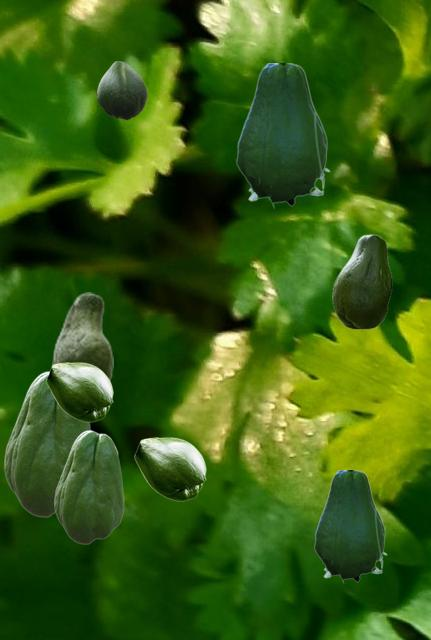sayote: (236, 63, 329, 208), (4, 371, 91, 516), (314, 470, 386, 583), (54, 430, 123, 543), (332, 234, 391, 328), (52, 292, 112, 383), (134, 437, 205, 500), (46, 362, 112, 421), (97, 61, 146, 119)
